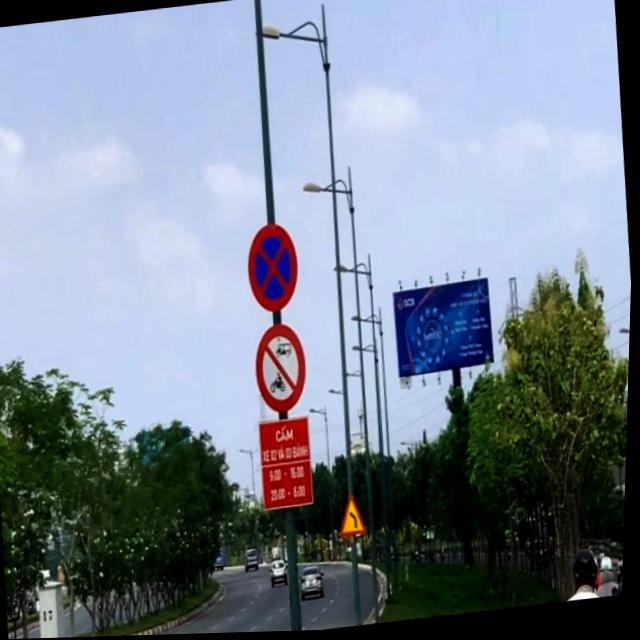Cam dung xe va do xe: (243, 222, 304, 317)
cho ngoat nguy hiem vong ben trai: (339, 494, 371, 539)
